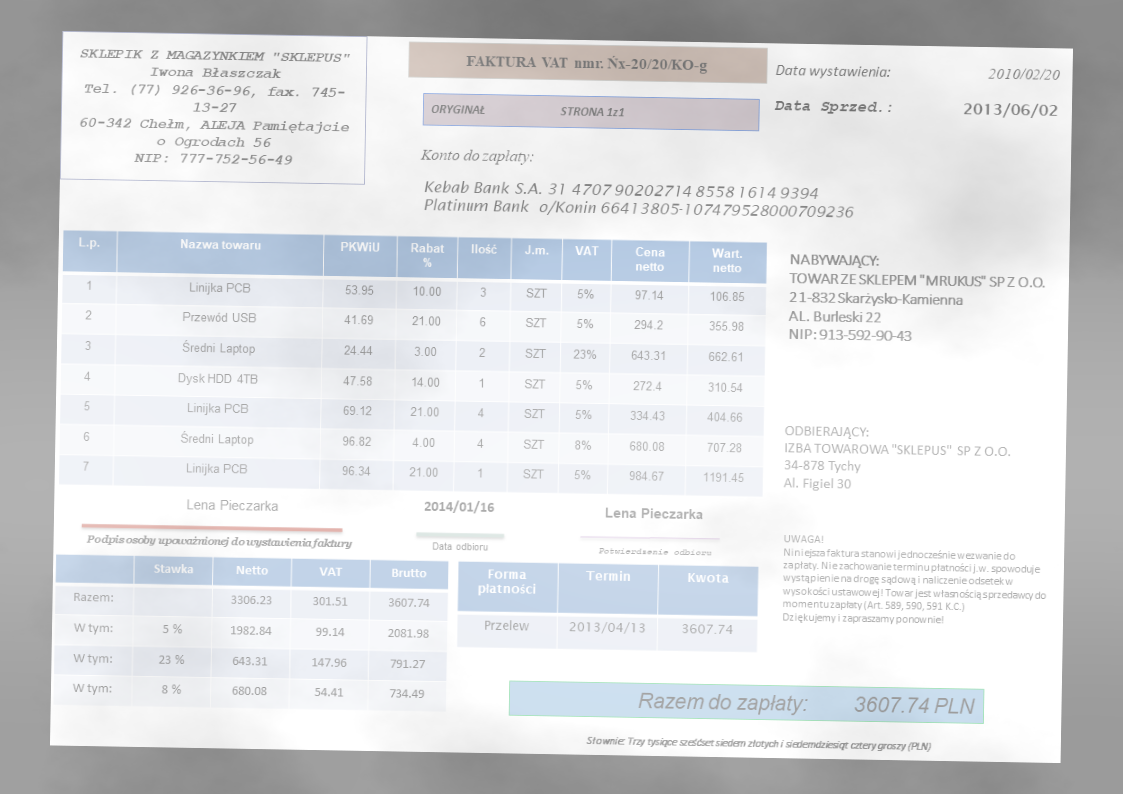Table: (56, 228, 769, 498), (52, 553, 449, 714), (456, 561, 761, 653)
TextBox: (75, 42, 354, 169), (778, 531, 1047, 630), (785, 251, 1049, 349), (422, 177, 857, 221), (781, 422, 1012, 496), (633, 689, 978, 718), (585, 731, 931, 755), (463, 51, 710, 76), (84, 531, 355, 553), (428, 100, 627, 121), (418, 145, 536, 168), (774, 96, 894, 117), (774, 61, 892, 80), (601, 503, 704, 523), (961, 100, 1059, 119), (184, 496, 280, 514), (597, 543, 712, 558), (421, 498, 497, 516), (986, 65, 1061, 82), (431, 539, 490, 554)
